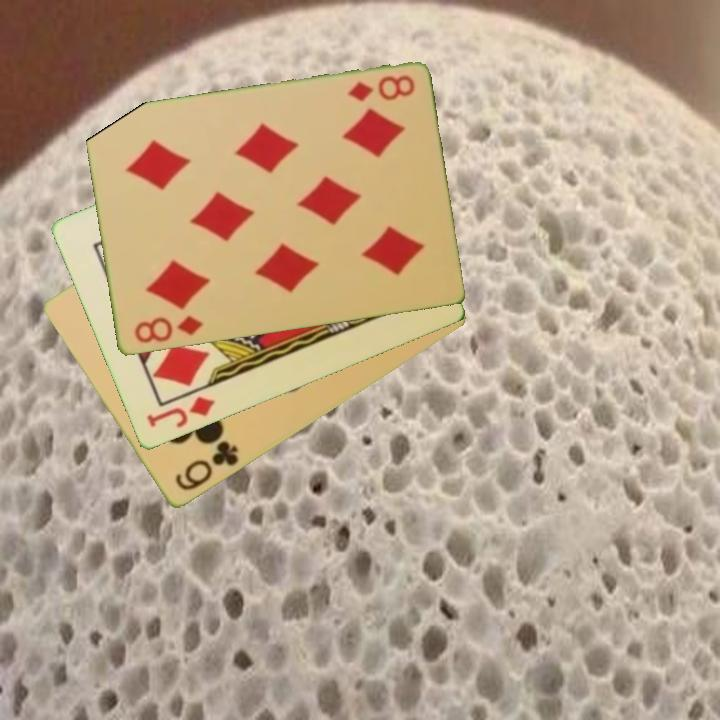6c: (171, 437, 242, 495)
8d: (130, 312, 205, 347), (344, 72, 418, 105)
Jd: (143, 393, 218, 432)
